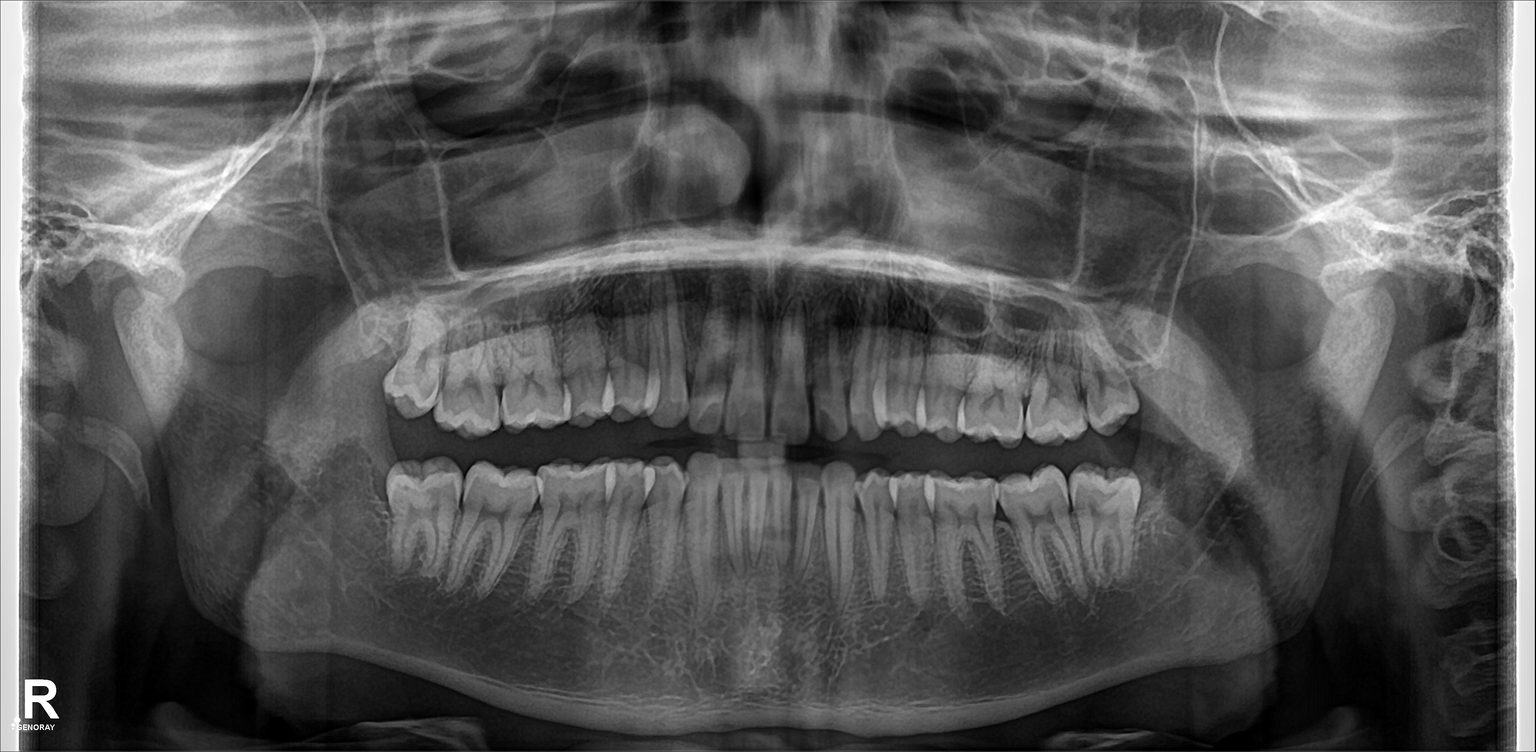Missing Tooth: (1132, 471, 1177, 542)
